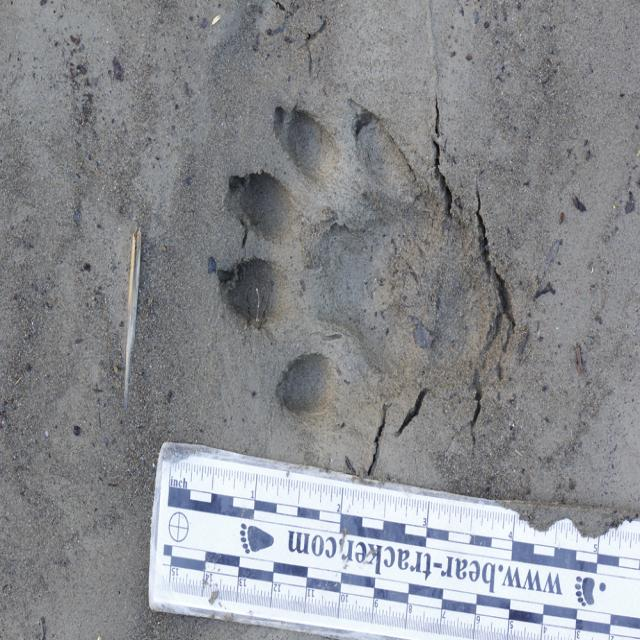mustelid: (214, 102, 498, 416)
